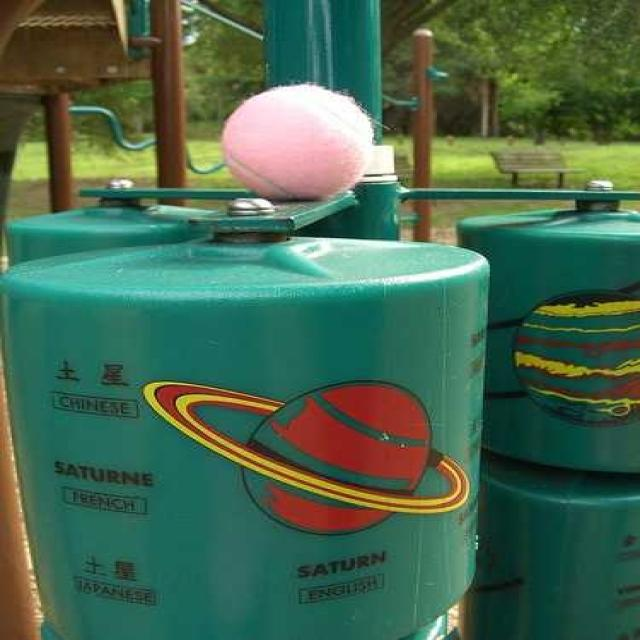Tennis_Ball: (224, 88, 367, 200)
